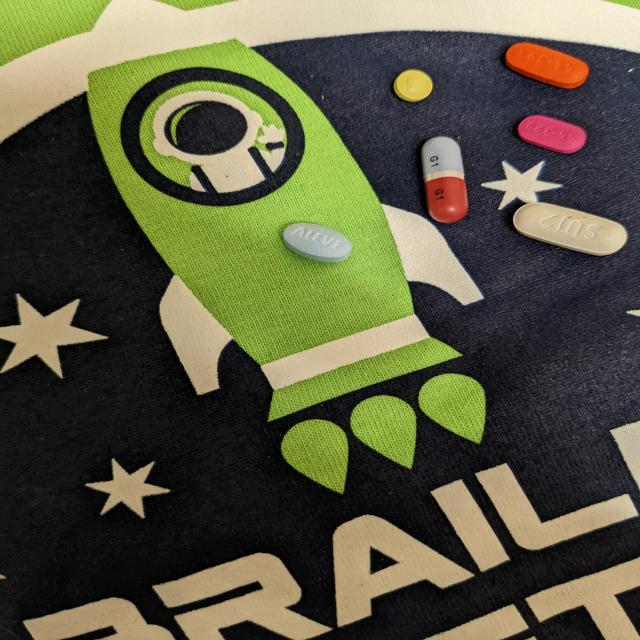non-organic waste: (512, 202, 628, 257), (420, 135, 469, 224), (504, 42, 589, 90), (281, 222, 354, 264), (516, 114, 586, 154), (391, 68, 434, 104)
